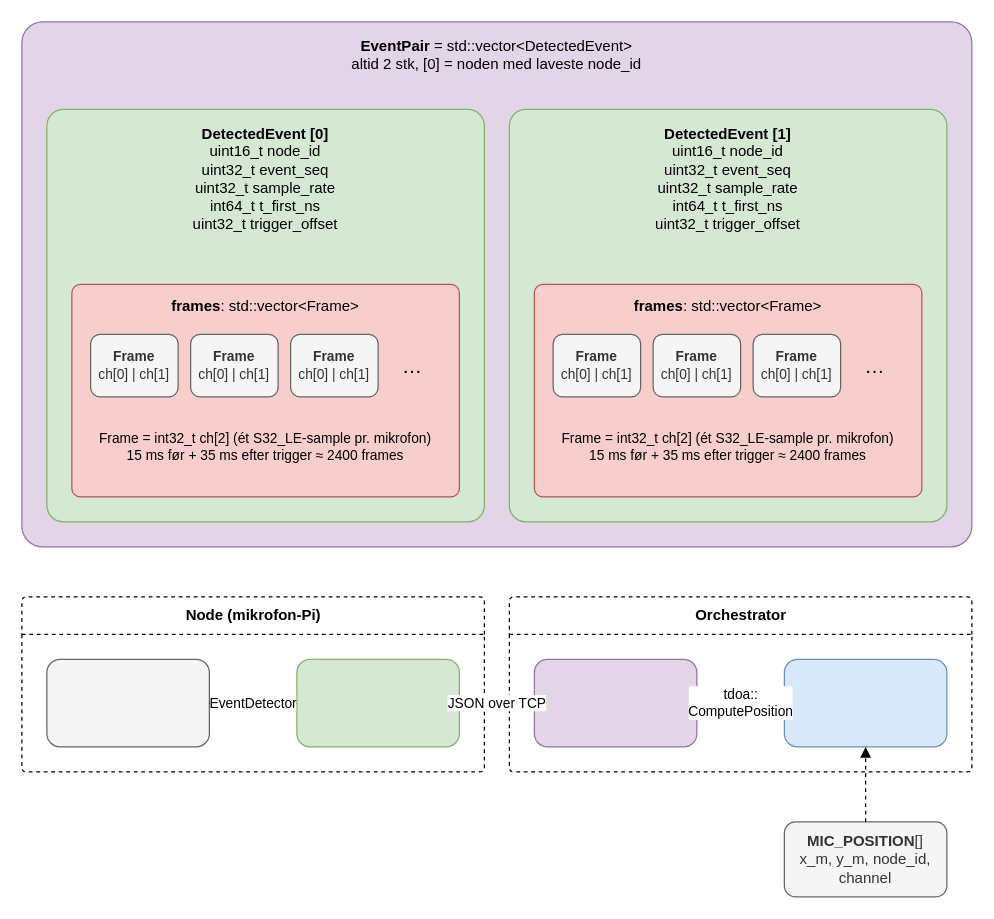
Some shapes in this 994 by 919 pixel diagram are drawn without their labels. The centre of each missing label's shape, as x and y in pixels:
"EventPairQueue std::deque<EventPair>" goes at (x=615, y=702).
"EventQueue std::deque<DetectedEvent>" goes at (x=377, y=702).
"RingBuffer std::vector<Frame> + TIME_ANCHOR[]" goes at (x=127, y=702).
"TDOA_RESULT valid, x_m, y_m, time_stamp_ns" goes at (x=865, y=702).
